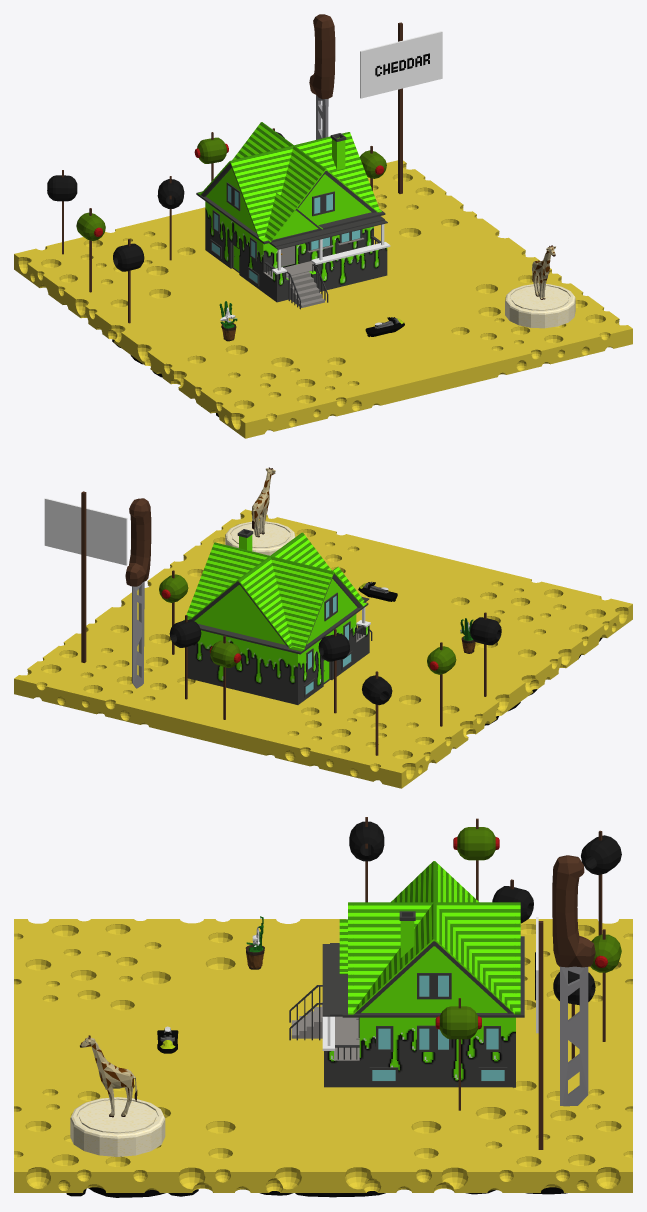
The picture shows the model from 3 angles, top to bottom: view 1: azimuth 30°, elevation 25°; view 2: azimuth 150°, elevation 25°; view 3: azimuth 270°, elevation 25°; orthographic projection. The views are drawn at different scales.
Parts seen in each view (by area): view 1: Cube.022, Cube.754, Cube.023, Cylinder.016, Cube.024, Sphere.017, Sphere.016, Sphere.020, Sphere.018, Sphere.022, ANIMAL_JIRAFA, Sphere.019; view 2: Cube.022, Cube.754, Cube.023, Cube.024, Cylinder.016, Sphere.016, Sphere.017, Sphere.020, Sphere.021, Sphere.022, Sphere.018, ANIMAL_JIRAFA (+2 smaller); view 3: Cube.022, Cube.754, Cube.024, Cylinder.016, Cube.023, Sphere.016, Sphere.019, ANIMAL_JIRAFA, Sphere.018, Sphere.017, Sphere.022, Curve.014 (+3 smaller).
Part boxes in pixels (<box>): Cube.022: <box>14,160,632,438</box>; Cube.754: <box>196,122,390,309</box>; Cube.023: <box>360,22,442,193</box>; Cylinder.016: <box>505,284,575,328</box>; Cube.024: <box>309,14,335,139</box>; Sphere.017: <box>113,239,144,323</box>; Sphere.016: <box>47,170,77,254</box>; Sphere.020: <box>157,176,184,260</box>; Sphere.018: <box>76,208,105,292</box>; Sphere.022: <box>194,132,228,181</box>; ANIMAL_JIRAFA: <box>532,245,555,299</box>; Sphere.019: <box>359,146,386,190</box>; Cube.022: <box>14,509,632,788</box>; Cube.754: <box>183,529,372,704</box>; Cube.023: <box>44,491,127,662</box>; Cube.024: <box>125,498,151,688</box>; Cylinder.016: <box>225,521,295,555</box>; Sphere.016: <box>362,671,392,755</box>; Sphere.017: <box>470,612,501,696</box>; Sphere.020: <box>318,629,349,713</box>; Sphere.021: <box>169,615,201,699</box>; Sphere.022: <box>209,635,241,719</box>; Sphere.018: <box>427,642,456,726</box>; ANIMAL_JIRAFA: <box>251,467,275,537</box>; Cube.022: <box>14,919,632,1192</box>; Cube.754: <box>289,861,524,1087</box>; Cube.024: <box>552,855,595,1106</box>; Cylinder.016: <box>70,1097,165,1156</box>; Cube.023: <box>535,917,543,1149</box>; Sphere.016: <box>581,830,621,935</box>; Sphere.019: <box>435,998,481,1110</box>; ANIMAL_JIRAFA: <box>80,1035,137,1117</box>; Sphere.018: <box>453,818,499,900</box>; Sphere.017: <box>349,817,384,902</box>; Sphere.022: <box>590,929,621,1041</box>; Curve.014: <box>66,1187,567,1197</box>.
Size of the model in its own units: 3917 by 1980 by 4000.
Materials: 34 (4 with a texture image).
